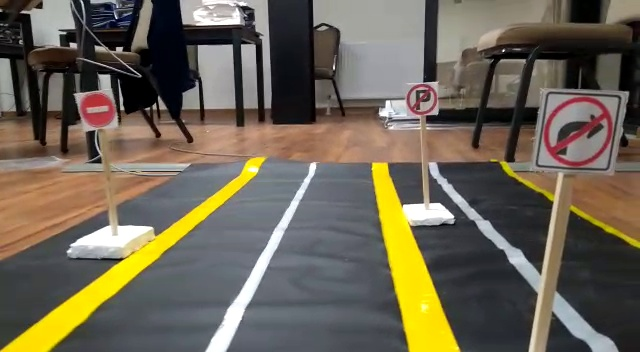girisi_olmayan_yol: (78, 90, 117, 129)
park_yapilmaz: (408, 82, 437, 113)
saga_donulmez: (543, 90, 613, 168)
